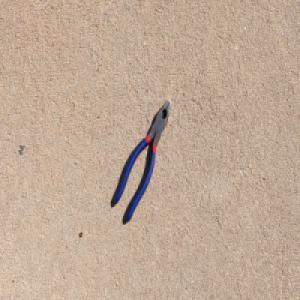Pliers: (113, 97, 172, 225)
